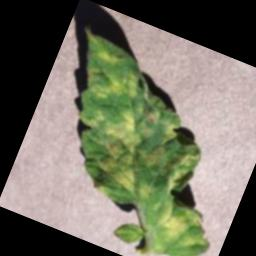Leaf_Mold: (64, 97, 160, 203), (138, 135, 202, 196), (79, 59, 142, 111), (150, 199, 196, 248), (94, 45, 123, 67)
